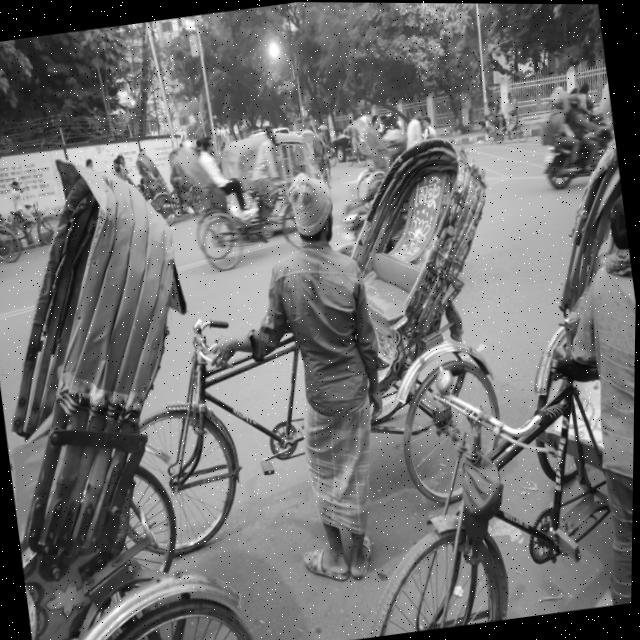rikshaw: (117, 106, 535, 558), (0, 138, 208, 640), (166, 107, 323, 279)
